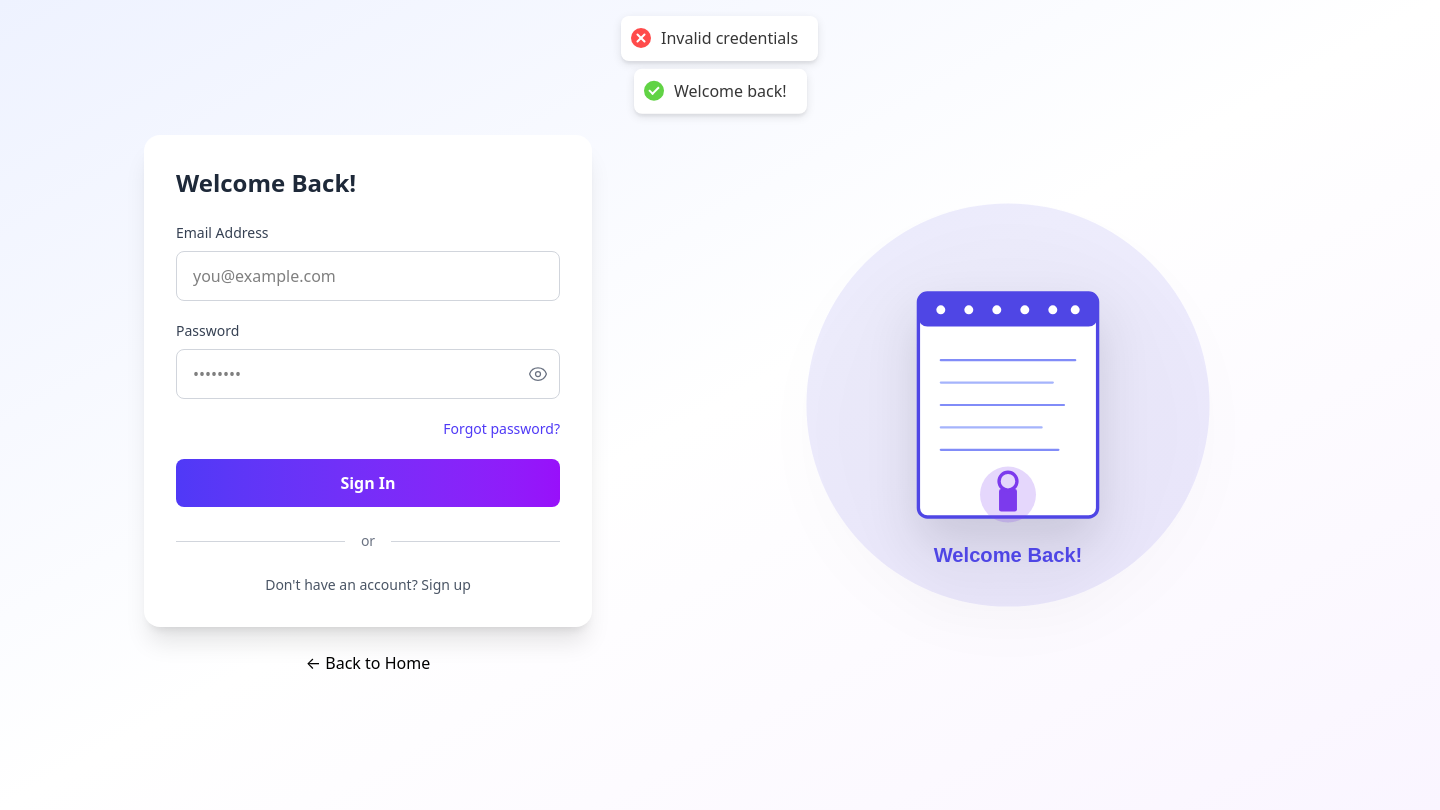
Test: Login Component › disables submit button while loading
Type "test@example.com" into the field labelled "Email Address".
click(368, 276); type("test@example.com")  # box [176,251,560,301]
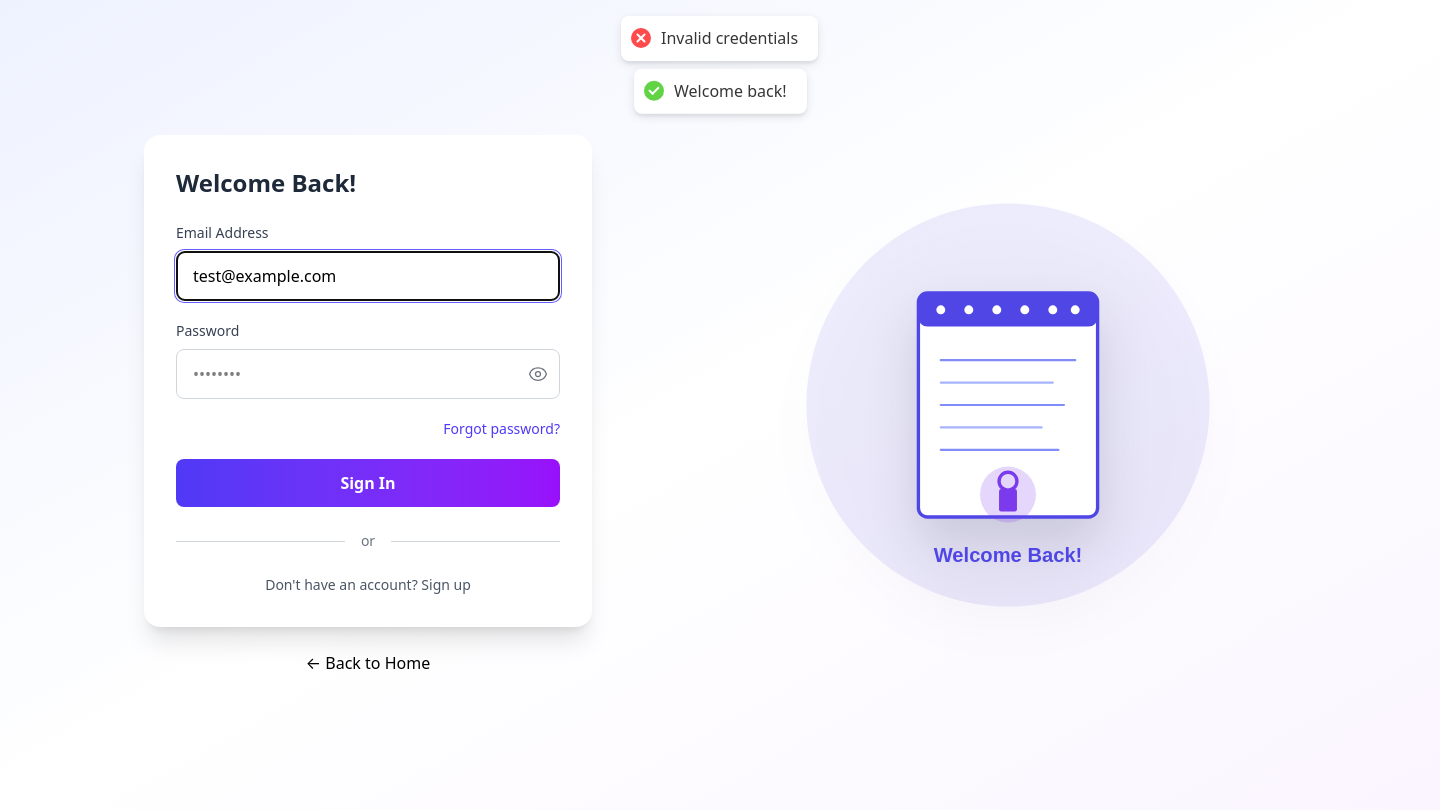
Type "password123" into the password field labelled "Password".
click(368, 374); type("password123")  # box [176,349,560,399]
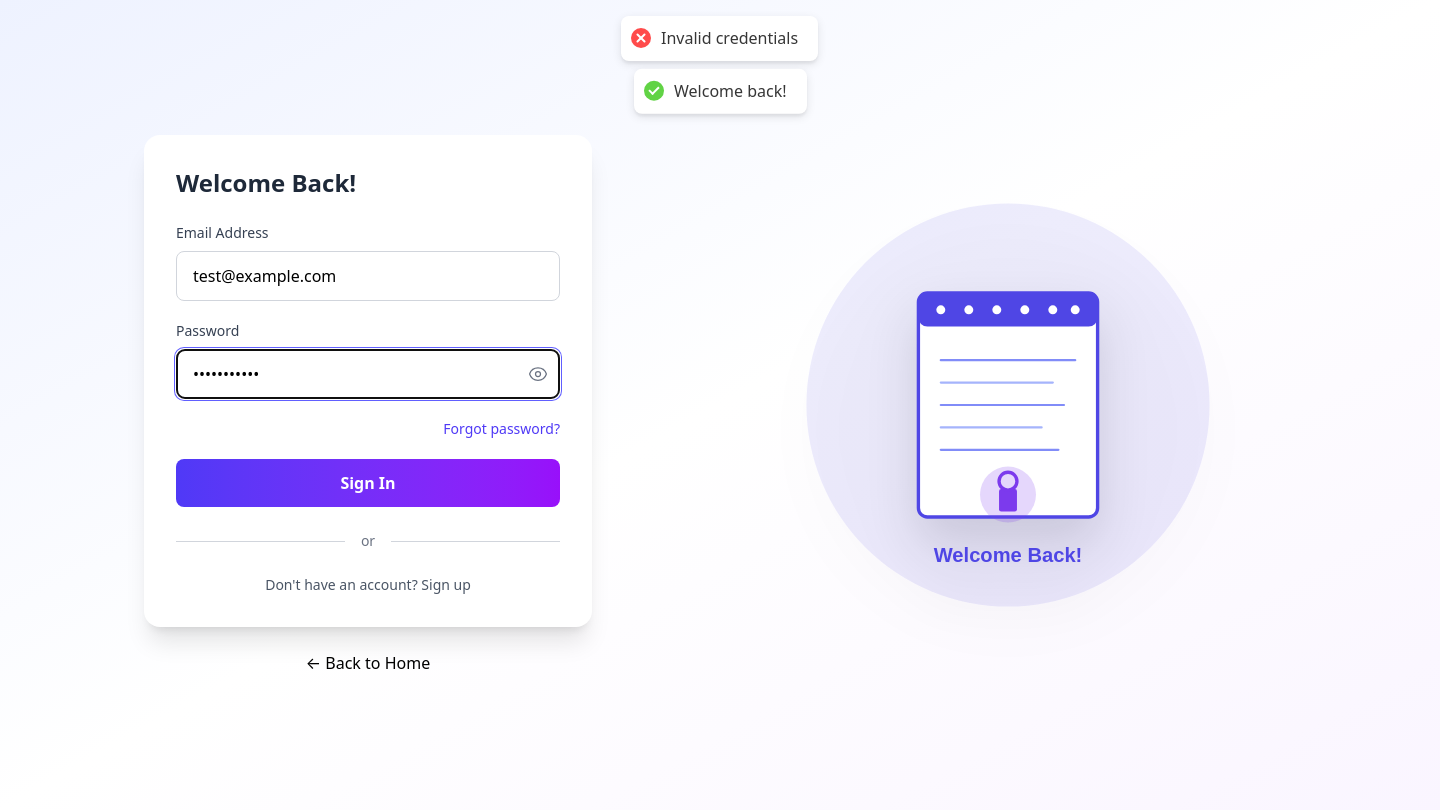
Click the button "Sign In".
click(368, 483)  # box [176,459,560,507]
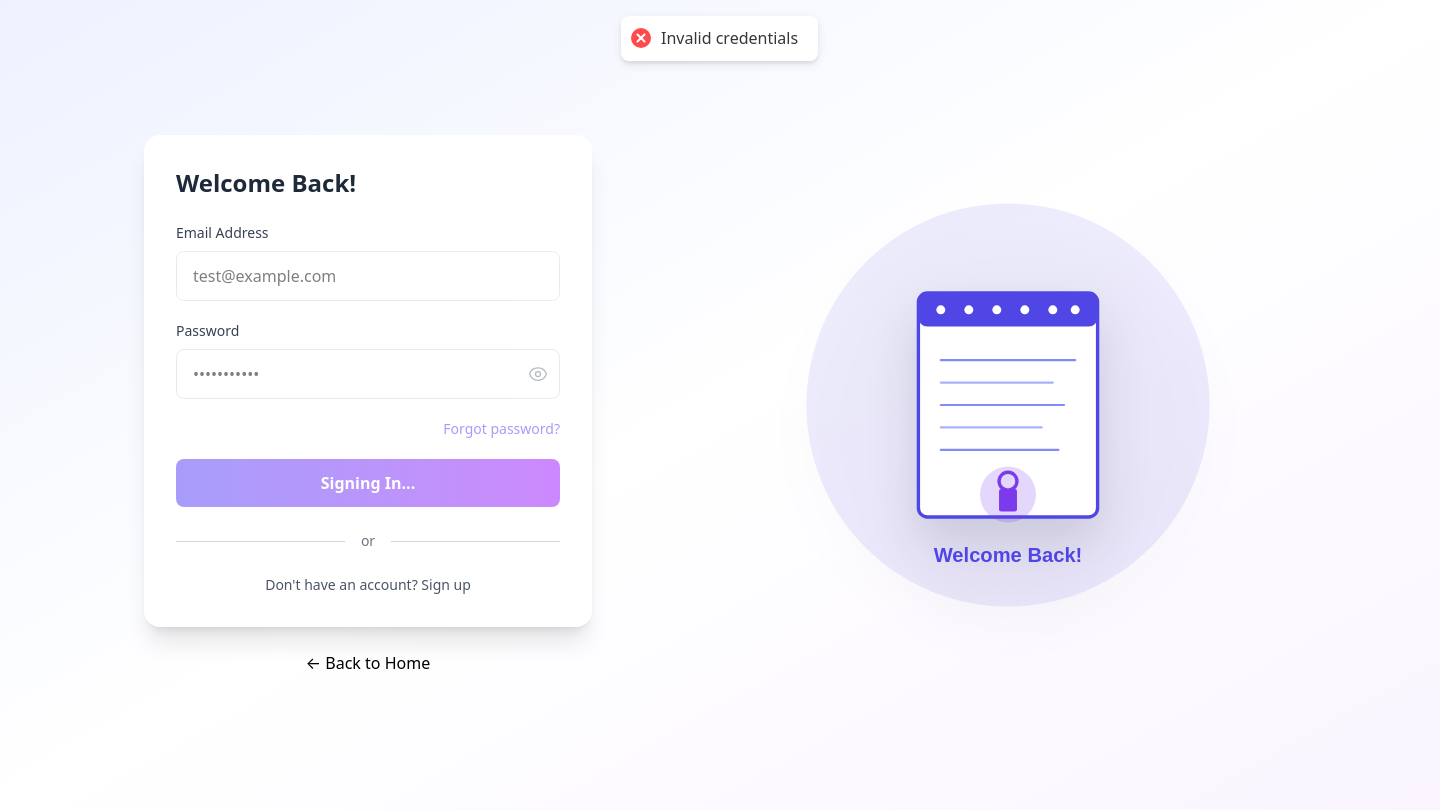
Expected: the button named "sign in" is disabled, [176,459,560,507]
